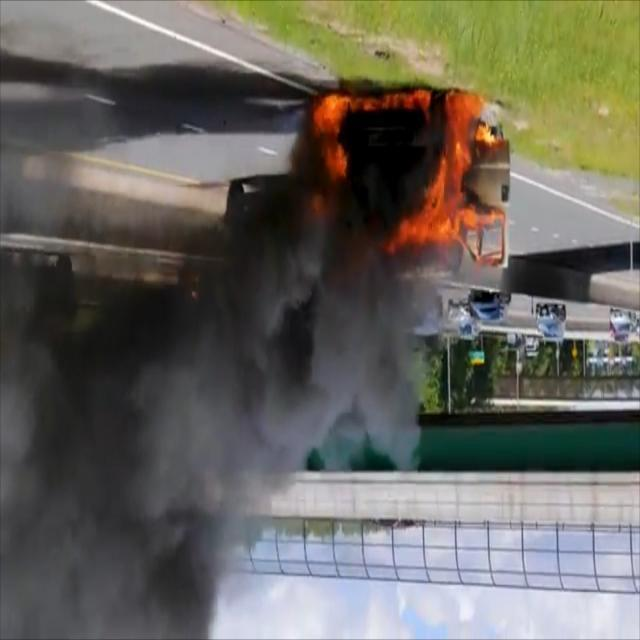fire: (304, 90, 510, 269)
